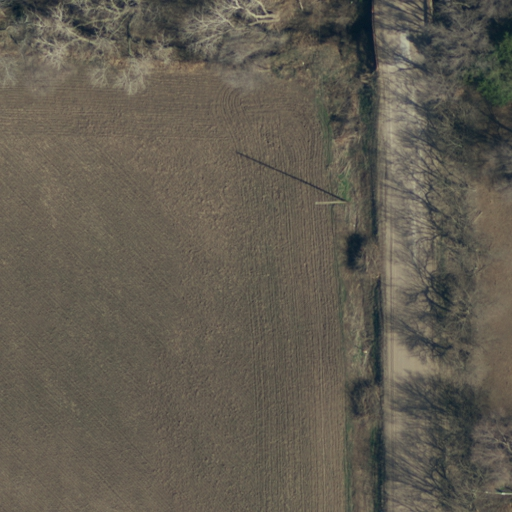DT: (310, 189, 354, 216)
